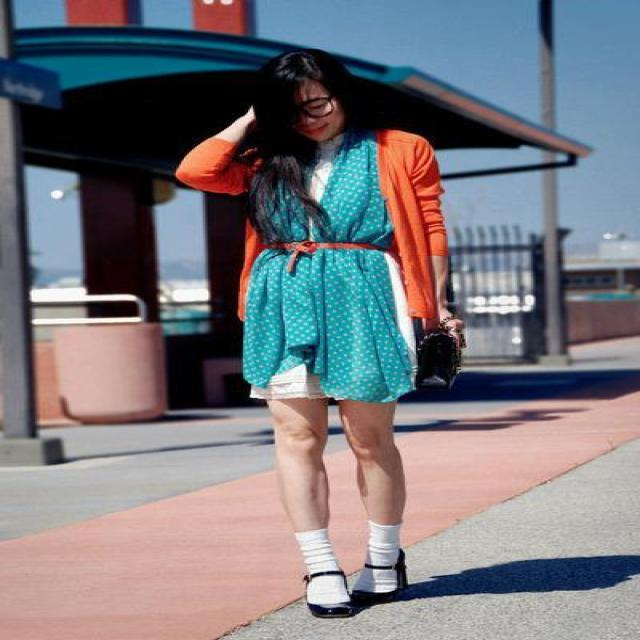bag: (412, 320, 466, 377)
dress: (242, 139, 419, 402)
jacket: (174, 130, 456, 328)
shoe: (302, 550, 414, 618)
